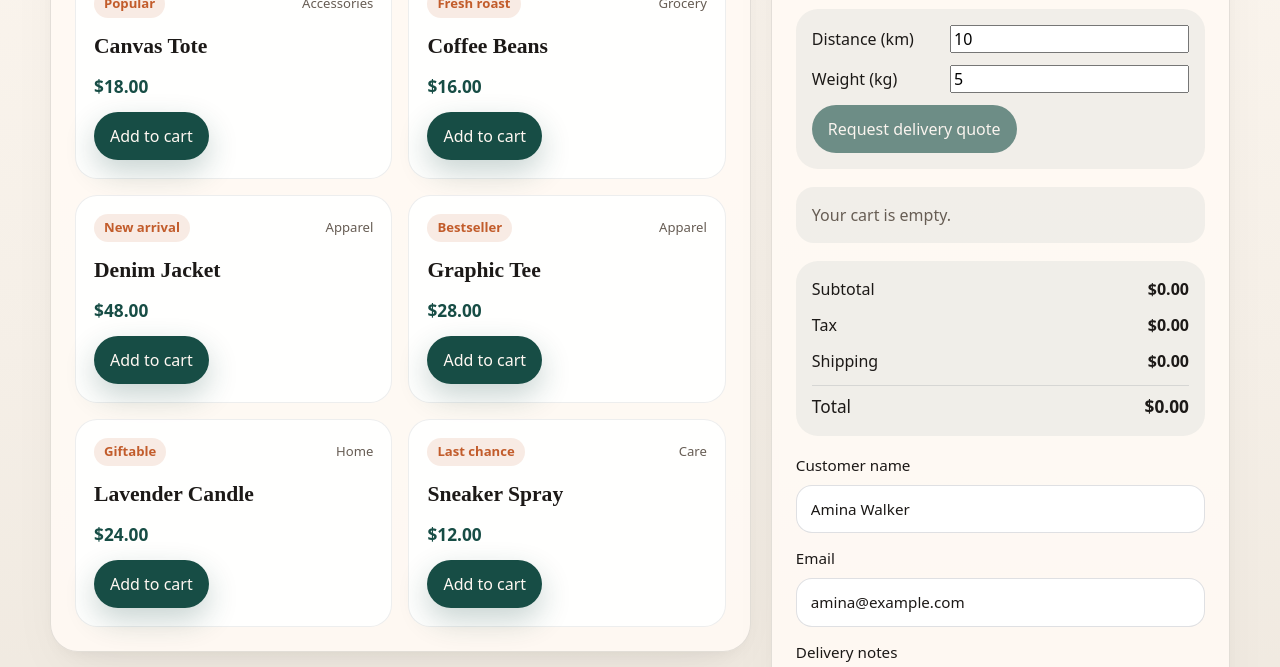
Scenario: Day 3: Delivery Quote Behavior › control mode: mocks delivery failure and verifies resilience and checkout refusal
(page scrolled)
Check: the element with test id "product-grid" is shown, box [75, 0, 726, 627]
Click the button with test id "add-to-cart" below "$28.00" at (485, 360), box [427, 336, 542, 384]
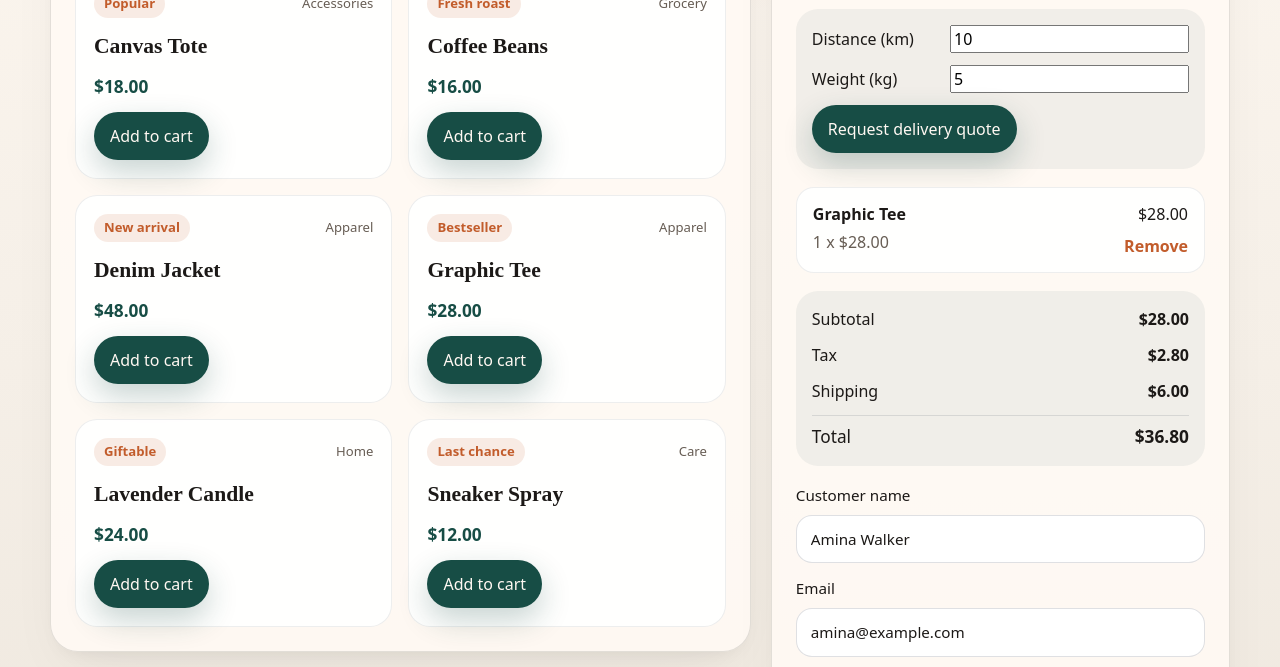
Replace the text in the number field with test id "distance-input" with "12" at (1070, 39), box [950, 25, 1189, 53]
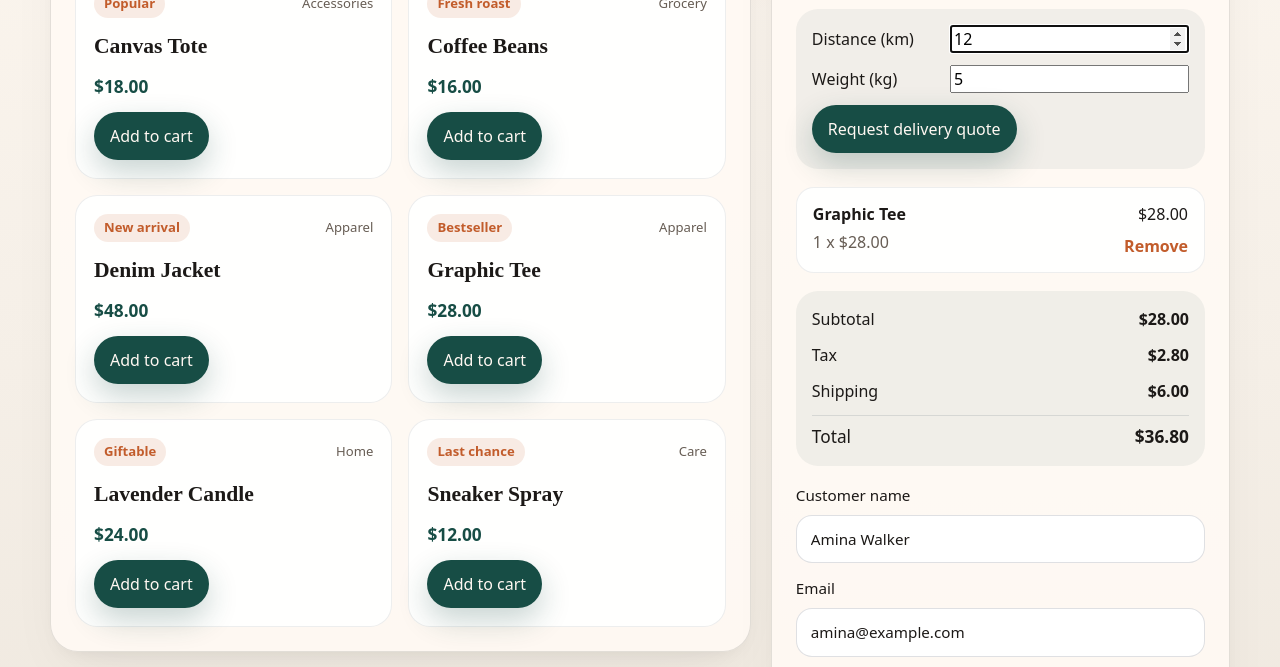
Replace the text in the number field with test id "weight-input" with "6" at (1070, 79), box [950, 65, 1189, 93]
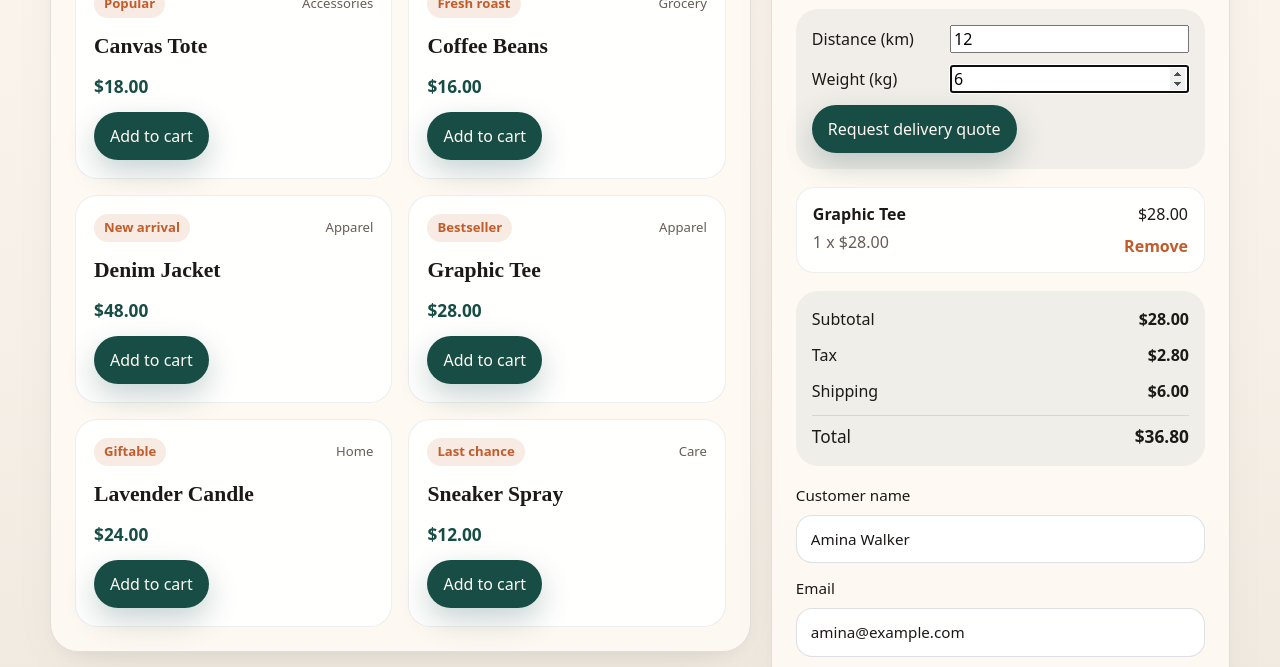
Click the button with test id "btn-delivery-quote" at (915, 129), box [812, 105, 1017, 153]
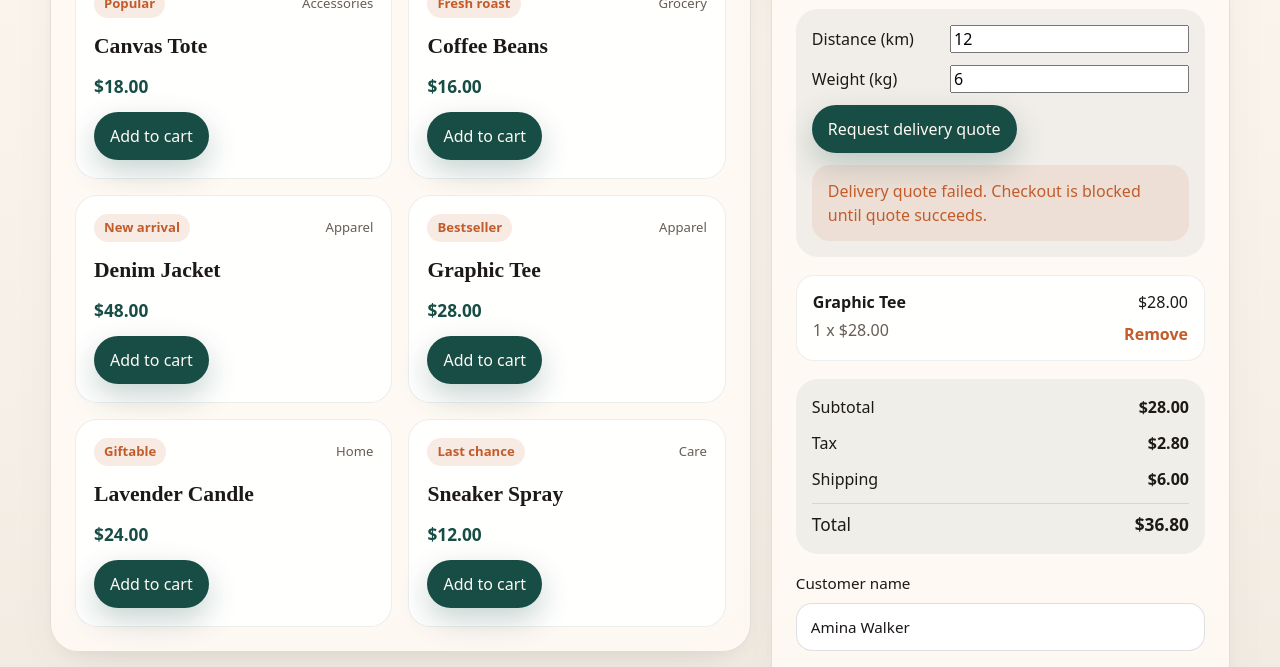
Check: the text with test id "delivery-error" is shown, box [812, 165, 1189, 241]
